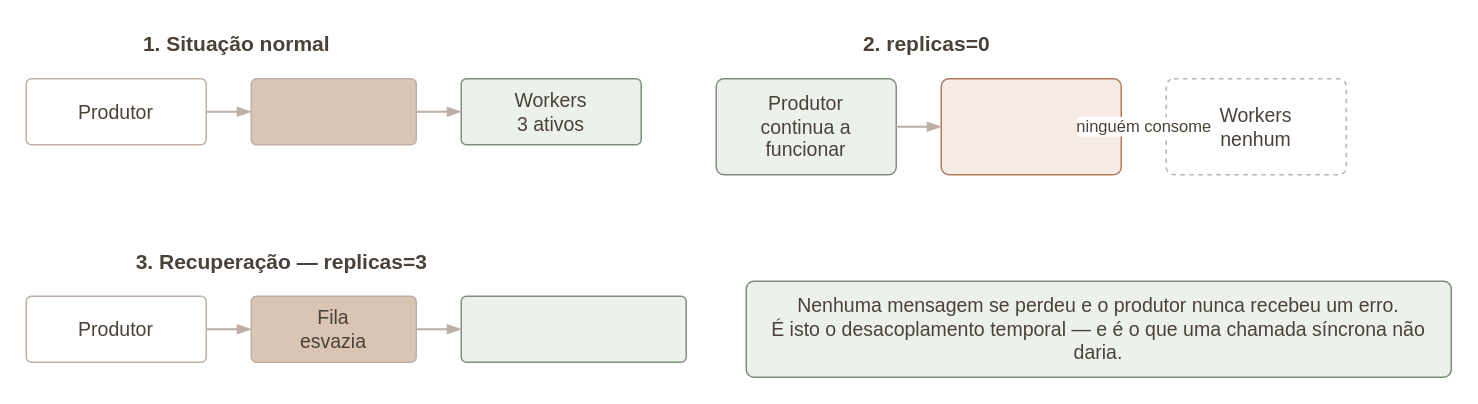
Image size: 1478x404. Some labels were removed from this diagram. Here are the shapes that lost their labels. From the top down, the centre of each, then its label:
(x=333, y=111): Fila 0 msg
(x=1030, y=126): Fila 6 msg acumuladas
(x=573, y=328): Workers processam tudo
